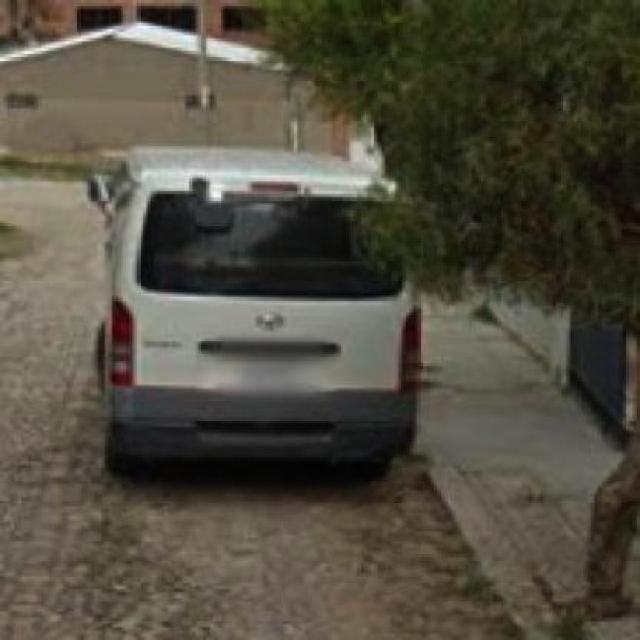car: (78, 150, 435, 499)
